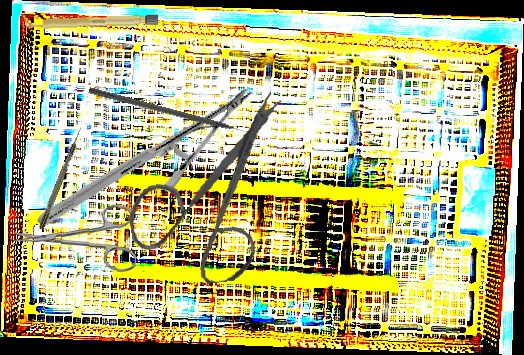Hook Surgical: (87, 87, 255, 139), (37, 125, 85, 231)
Iris Scissors: (116, 90, 303, 293), (11, 200, 139, 273)
Needle Holder: (36, 31, 253, 283)
Scalpel Handle: (24, 13, 159, 30)
